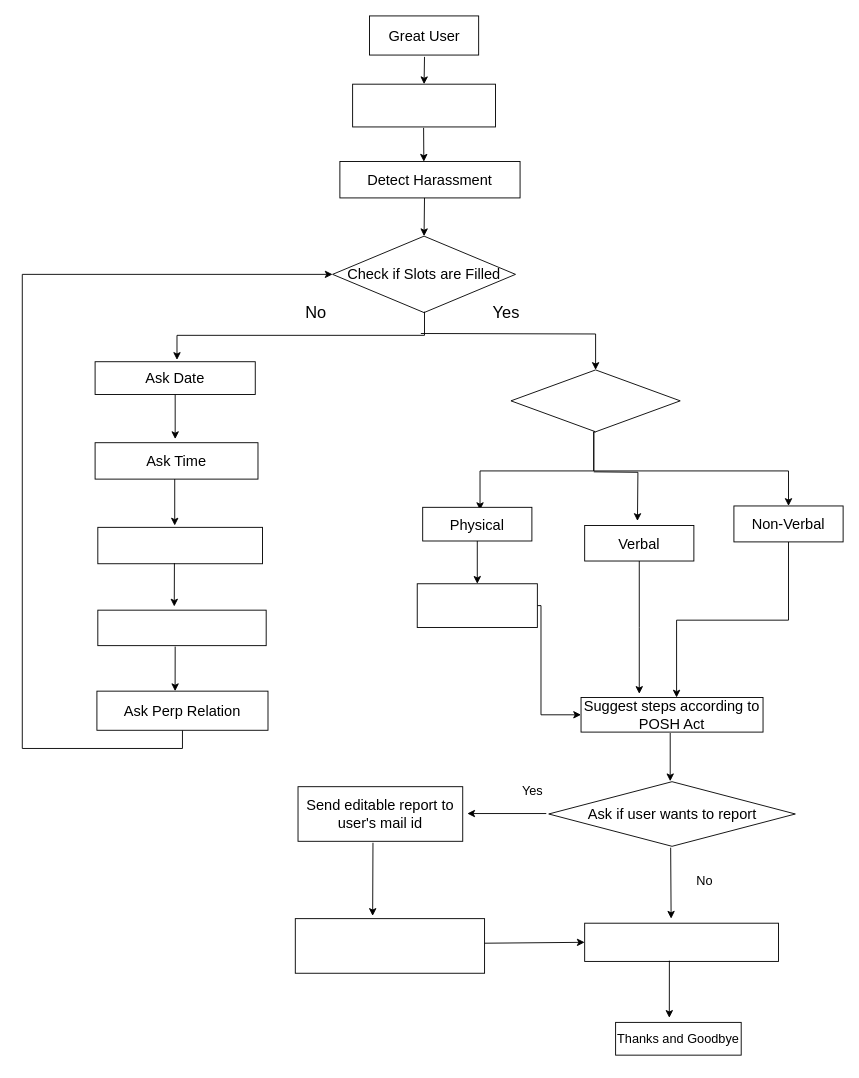
This 859x1078 diagram has some shape labels left out. Each missing label, with the centre of its shape:
"Ask about incident" goes at [423,105].
"Ask Location" goes at [180,545].
"Ask Perp Name" goes at [181,627].
"Chatbot ask feedbacks from user" goes at [681,941].
"Suggest Medical Assistance" goes at [476,605].
"Type of harassment" goes at [595,400].
"Updated report is send to CTS and feedback is given" goes at [389,945].
